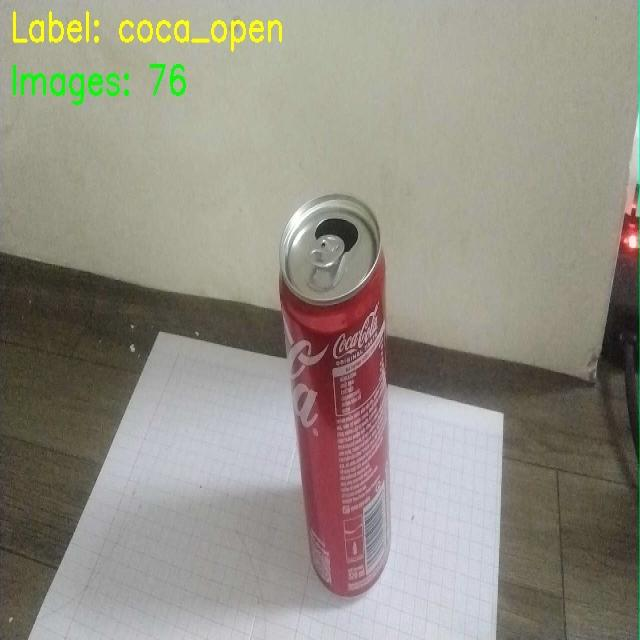Coca_open: (287, 190, 435, 598)
